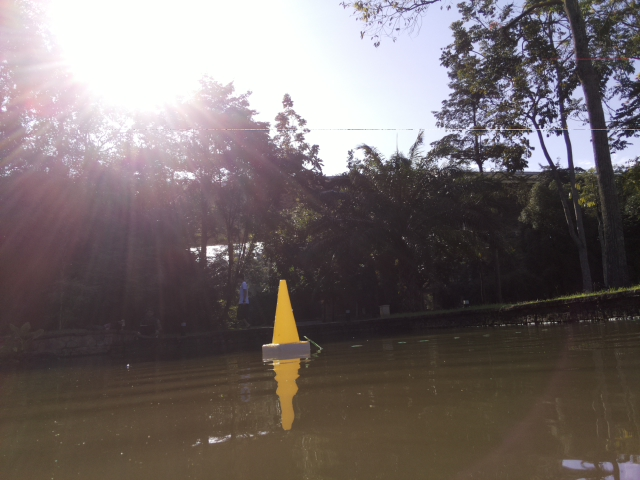checkpoint: (260, 280, 310, 360)
